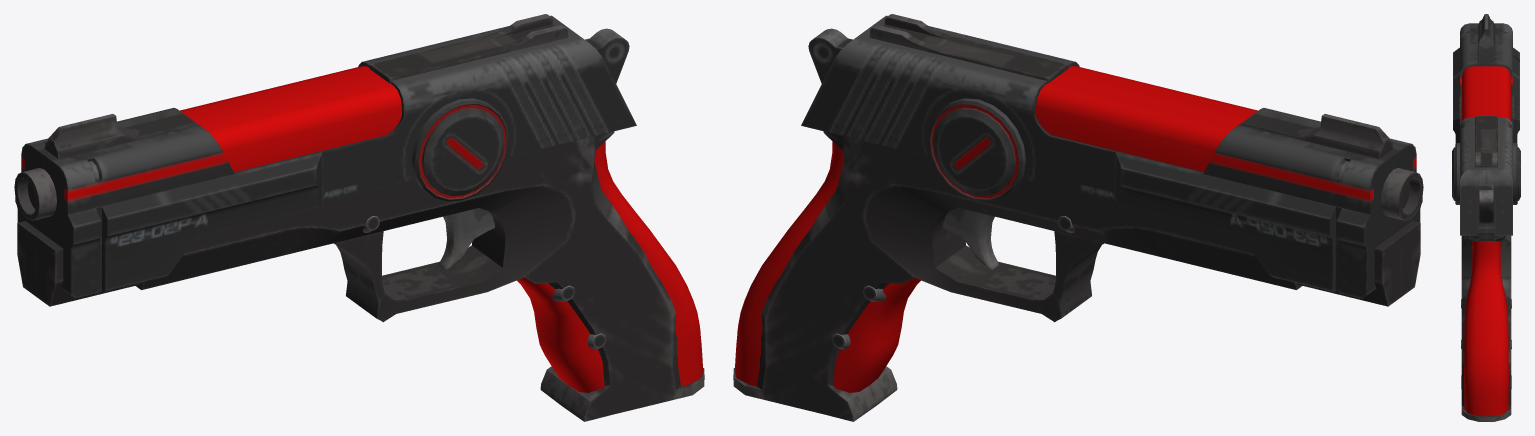
Rendered from Gun_Pistol_Red.obj.
The picture shows the model from 3 angles, left to right: view 1: azimuth 30°, elevation 25°; view 2: azimuth 150°, elevation 25°; view 3: azimuth 270°, elevation 25°; orthographic projection. The views are drawn at different scales.
Parts seen in each view (by area): view 1: Gun_Pistol_Red_Cube.019; view 2: Gun_Pistol_Red_Cube.019; view 3: Gun_Pistol_Red_Cube.019.
Boxes of the visible parts, x1,y1,x2,y2 form: Gun_Pistol_Red_Cube.019: (14,14,704,421); Gun_Pistol_Red_Cube.019: (733,14,1423,421); Gun_Pistol_Red_Cube.019: (1452,14,1520,421).
Size of the model in its own units: 0.4425 by 0.2523 by 0.0685.
